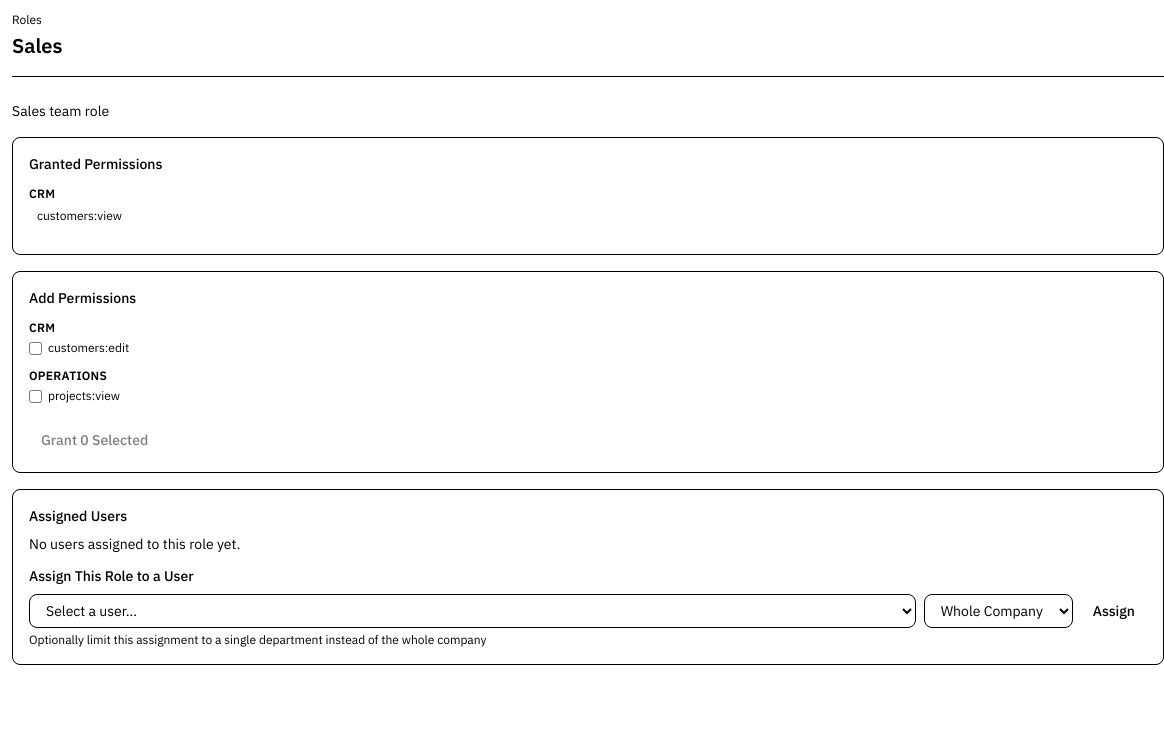
Test: RoleDetailPage — additive-only permission assignment › the grant button is disabled until at least one permission is checked
Expected: the button "Grant 0 Selected" is disabled, left=29, top=424, right=160, bottom=456
Click the checkbox labelled "customers:edit": (36,348) left=29, top=342, right=42, bottom=354
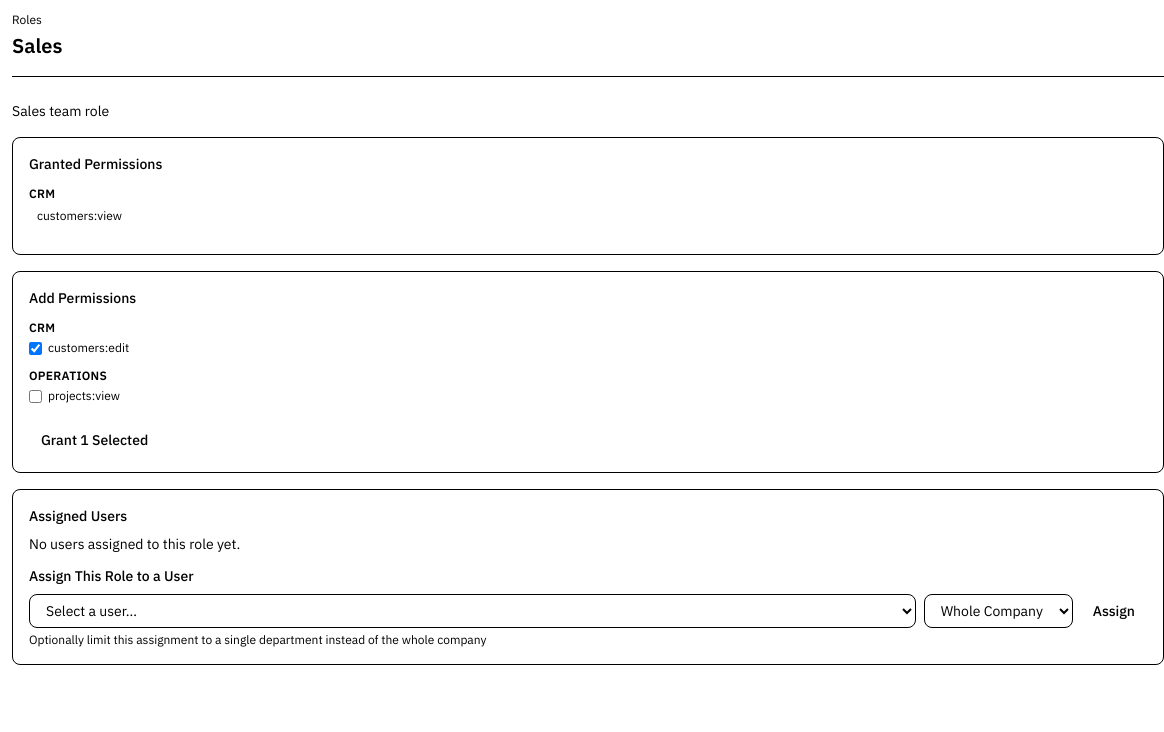
Result: the button "Grant 1 Selected" is shown at left=29, top=424, right=160, bottom=456
